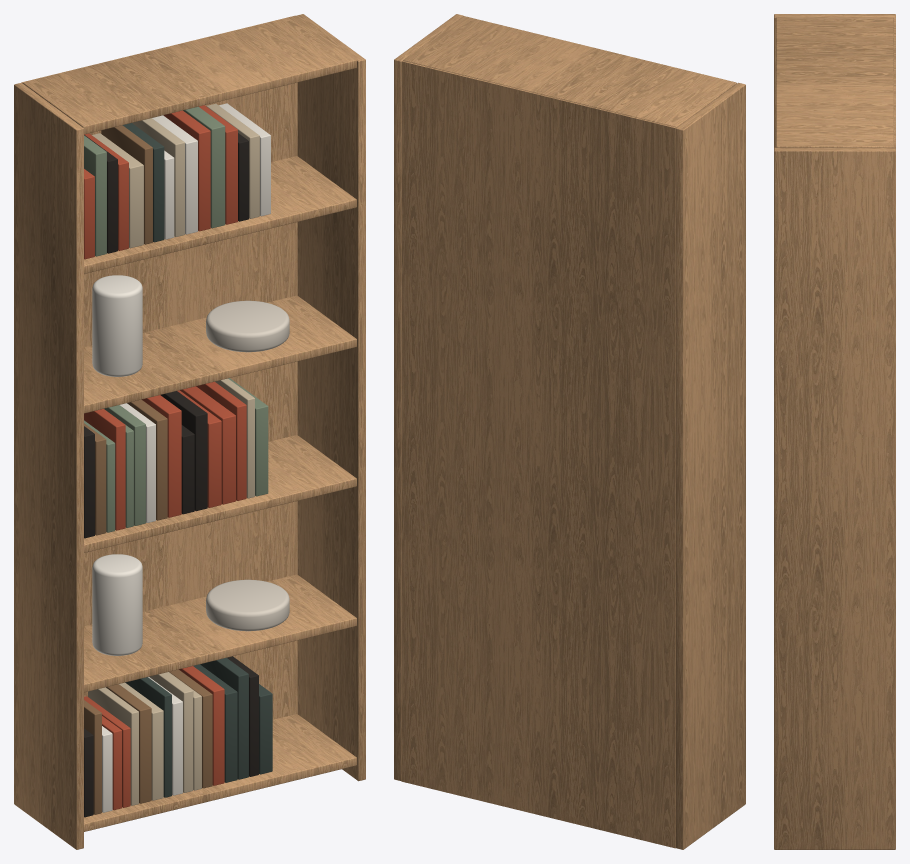
Rendered from bookcase-oak.glb.
3 views of the same model, side by side, from view 1: azimuth 30°, elevation 25°; view 2: azimuth 150°, elevation 25°; view 3: azimuth 270°, elevation 25° (orthographic). The views are drawn at different scales.
Parts seen in each view (by area): view 1: side, side.001, back, shelf.005, shelf.001, shelf.003, shelf.002, shelf.004, shelf, vase, vase.001, bowl (+51 smaller); view 2: back, side, shelf.005, side.001; view 3: side.001, shelf.005, side, back.
Boxes of the visible parts, x1=… form: side: x1=14, y1=82, x2=83, y2=849; side.001: x1=296, y1=14, x2=365, y2=781; back: x1=21, y1=15, x2=297, y2=719; shelf.005: x1=23, y1=16, x2=356, y2=134; shelf.001: x1=84, y1=574, x2=356, y2=692; shelf.003: x1=84, y1=295, x2=356, y2=413; shelf.002: x1=84, y1=435, x2=356, y2=552; shelf.004: x1=84, y1=156, x2=356, y2=273; shelf: x1=84, y1=714, x2=356, y2=831; vase: x1=92, y1=554, x2=142, y2=655; vase.001: x1=92, y1=275, x2=142, y2=376; bowl: x1=206, y1=579, x2=289, y2=631; back: x1=401, y1=61, x2=677, y2=848; side: x1=676, y1=82, x2=745, y2=849; shelf.005: x1=403, y1=16, x2=736, y2=127; side.001: x1=394, y1=14, x2=463, y2=781; side.001: x1=774, y1=147, x2=895, y2=849; shelf.005: x1=776, y1=17, x2=893, y2=147; side: x1=774, y1=14, x2=895, y2=147; back: x1=892, y1=17, x2=895, y2=147.
Bounding box in the file's own units: 0.8 × 1.9 × 0.3.
Materials: 10 (1 with a texture image).
